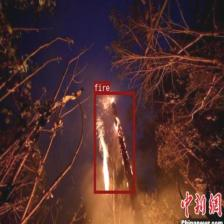fire: (94, 91, 134, 193)
